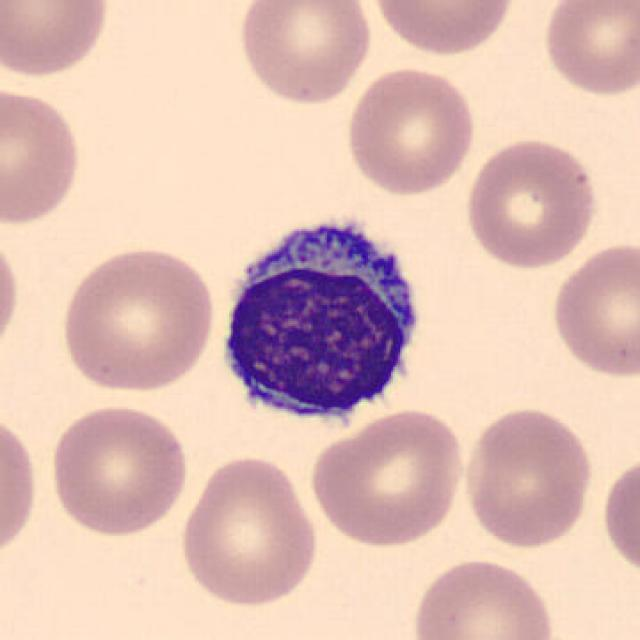Lymphocyte: (208, 201, 434, 441)
RBC: (57, 240, 219, 396), (174, 451, 322, 610), (306, 406, 468, 548), (459, 402, 597, 552), (44, 402, 192, 539), (460, 134, 601, 272), (342, 64, 478, 198), (233, 0, 377, 108), (546, 236, 638, 383), (408, 553, 558, 640), (0, 82, 85, 229), (538, 0, 638, 100), (0, 0, 114, 81), (366, 0, 519, 58), (0, 407, 41, 566), (599, 451, 638, 582), (0, 222, 23, 367)
